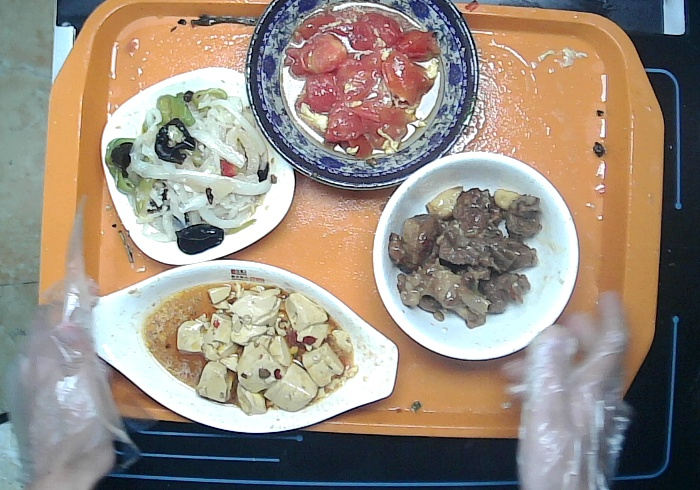ZNLD-Qing_Hua_Wan: (237, 1, 485, 200)
ZNLD-Si_Fang_Wan: (91, 59, 303, 266)
ZNLD-Tang_Wan: (365, 148, 586, 372)
ZNLD-Yu_Pan: (85, 257, 406, 441)
